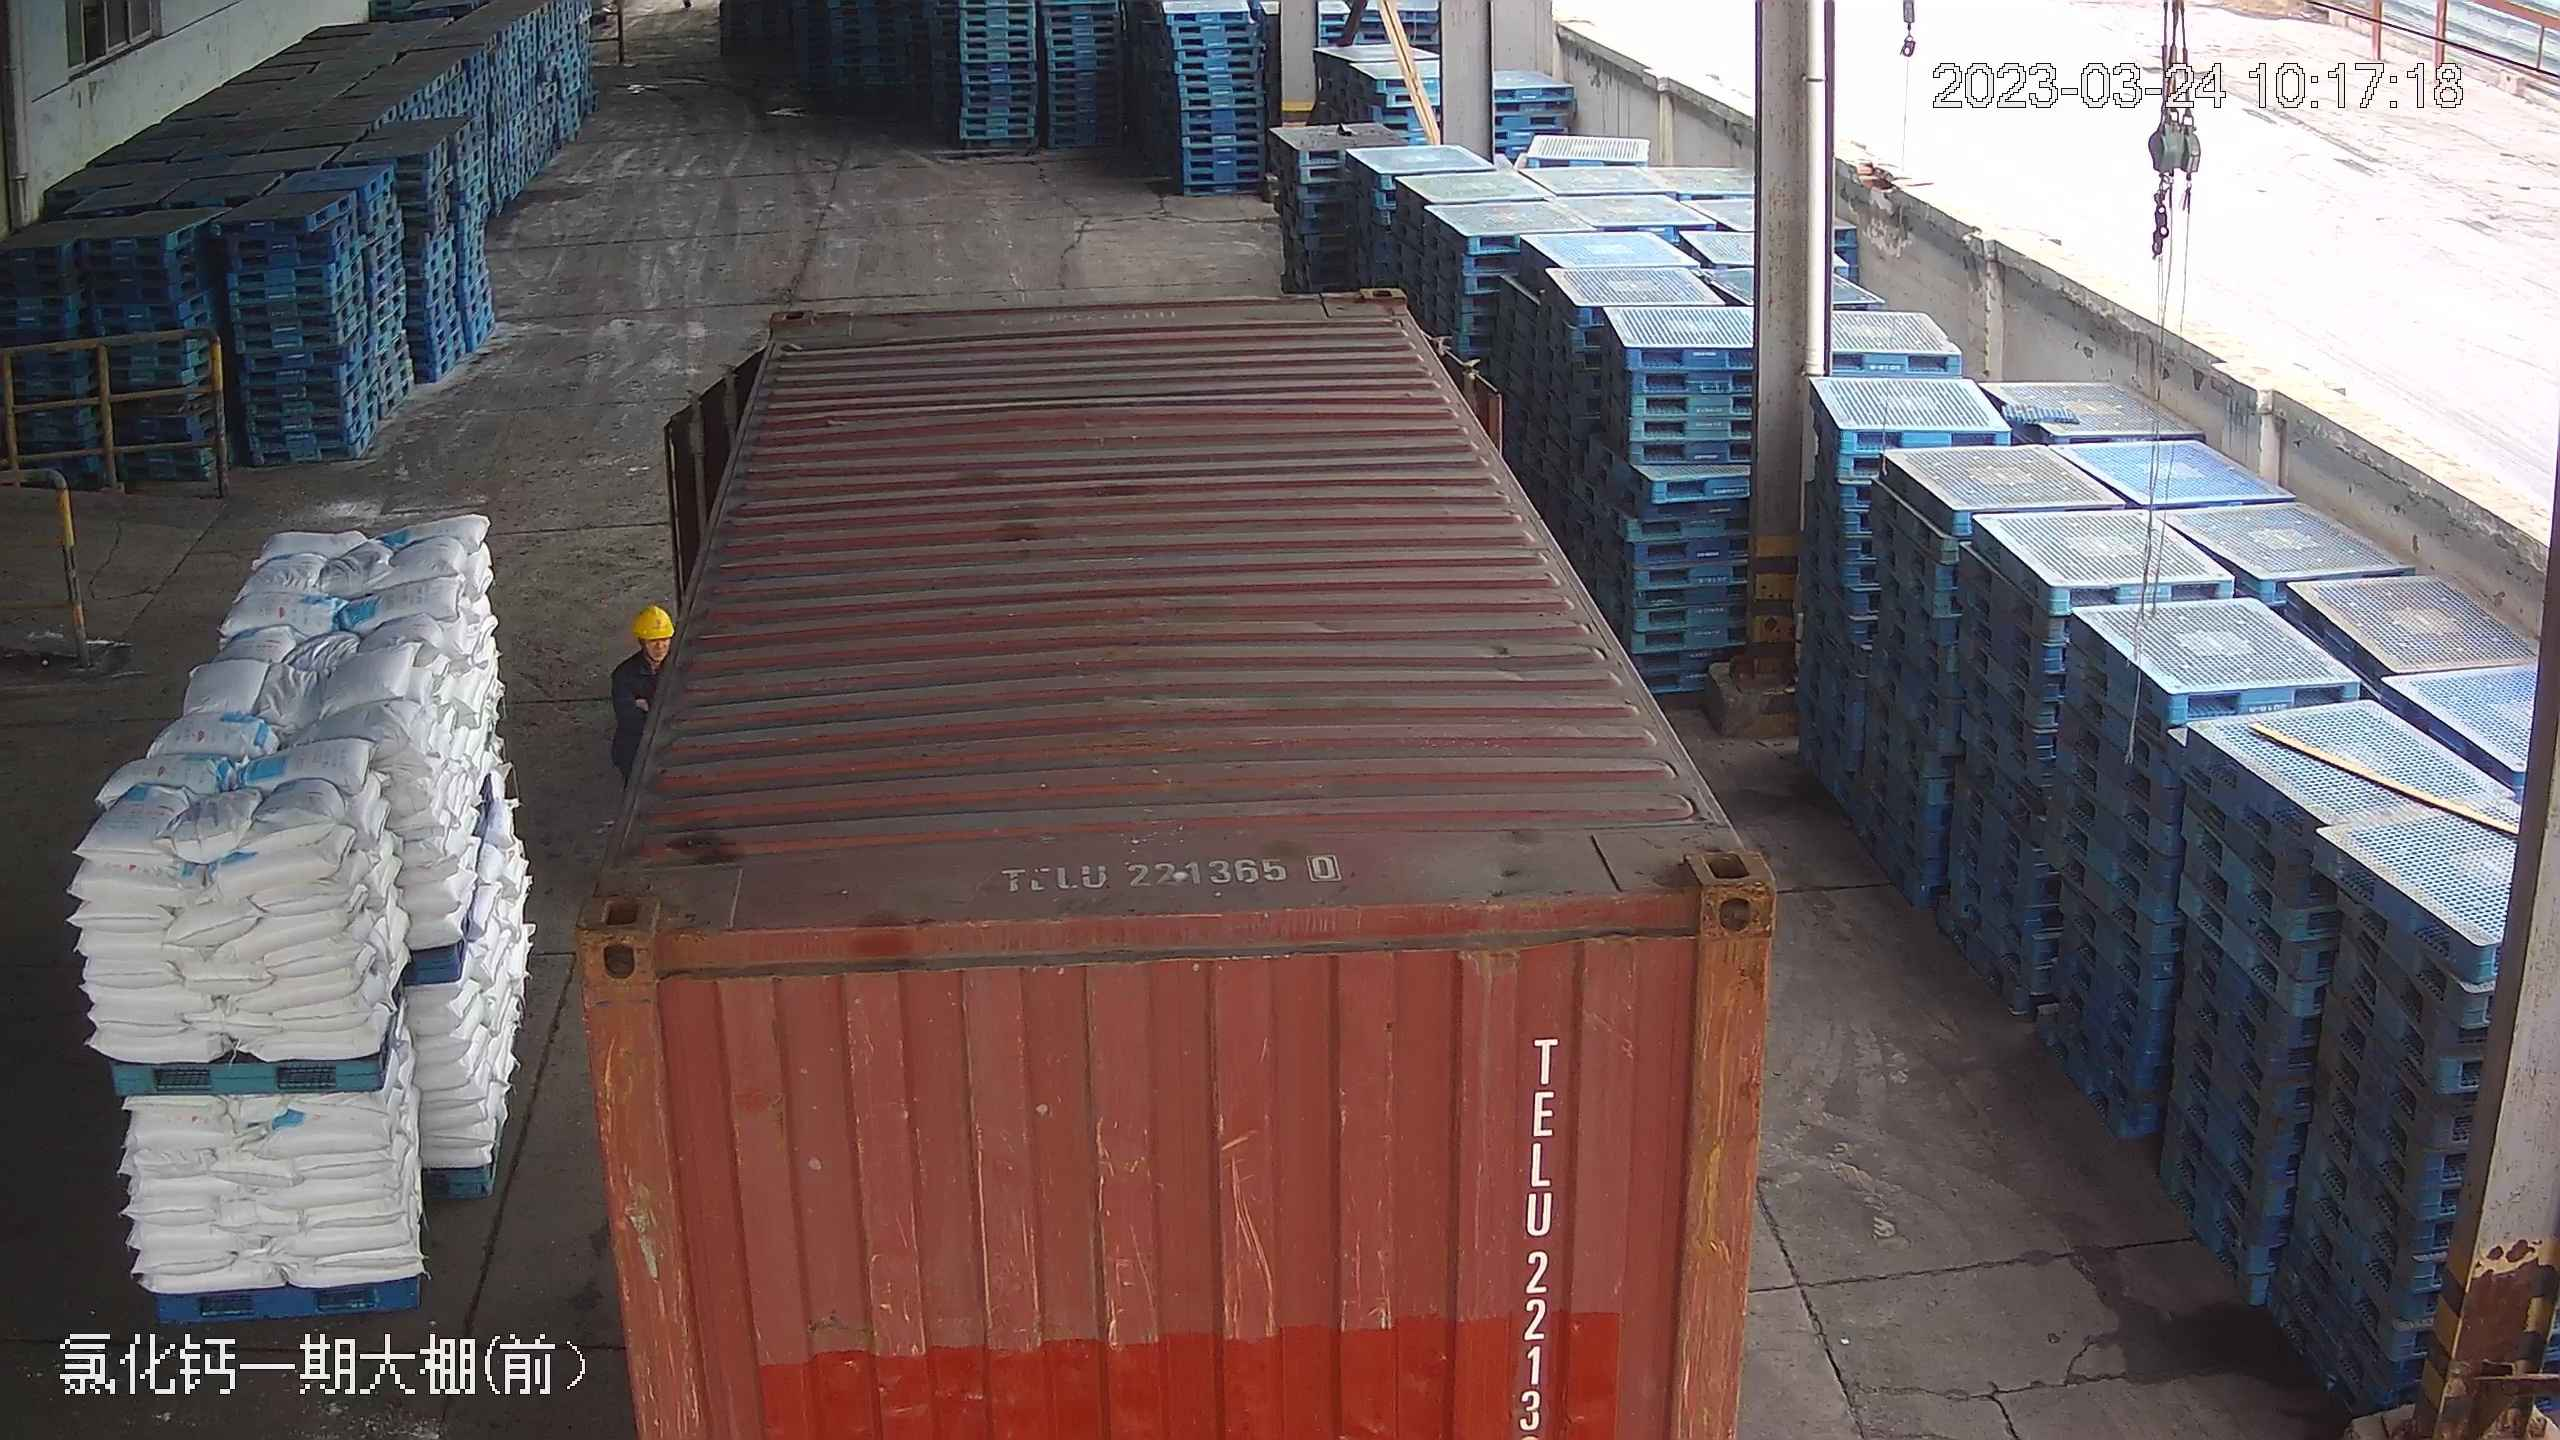head: (609, 601, 678, 690)
helmet: (625, 602, 676, 639)
people: (600, 600, 680, 797)
truck: (601, 249, 1823, 1440)
